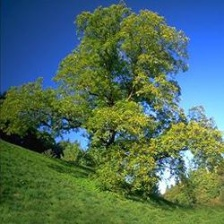neutral: (7, 2, 224, 221)
